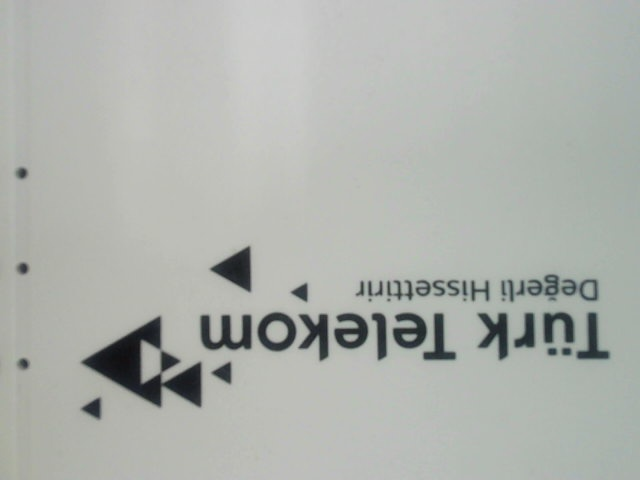AQ_TURKTelekom: (66, 243, 624, 424)
